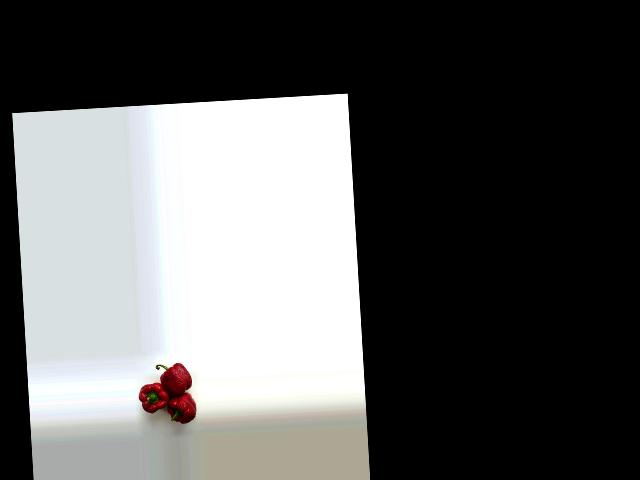bell_pepper: (153, 354, 194, 394)
